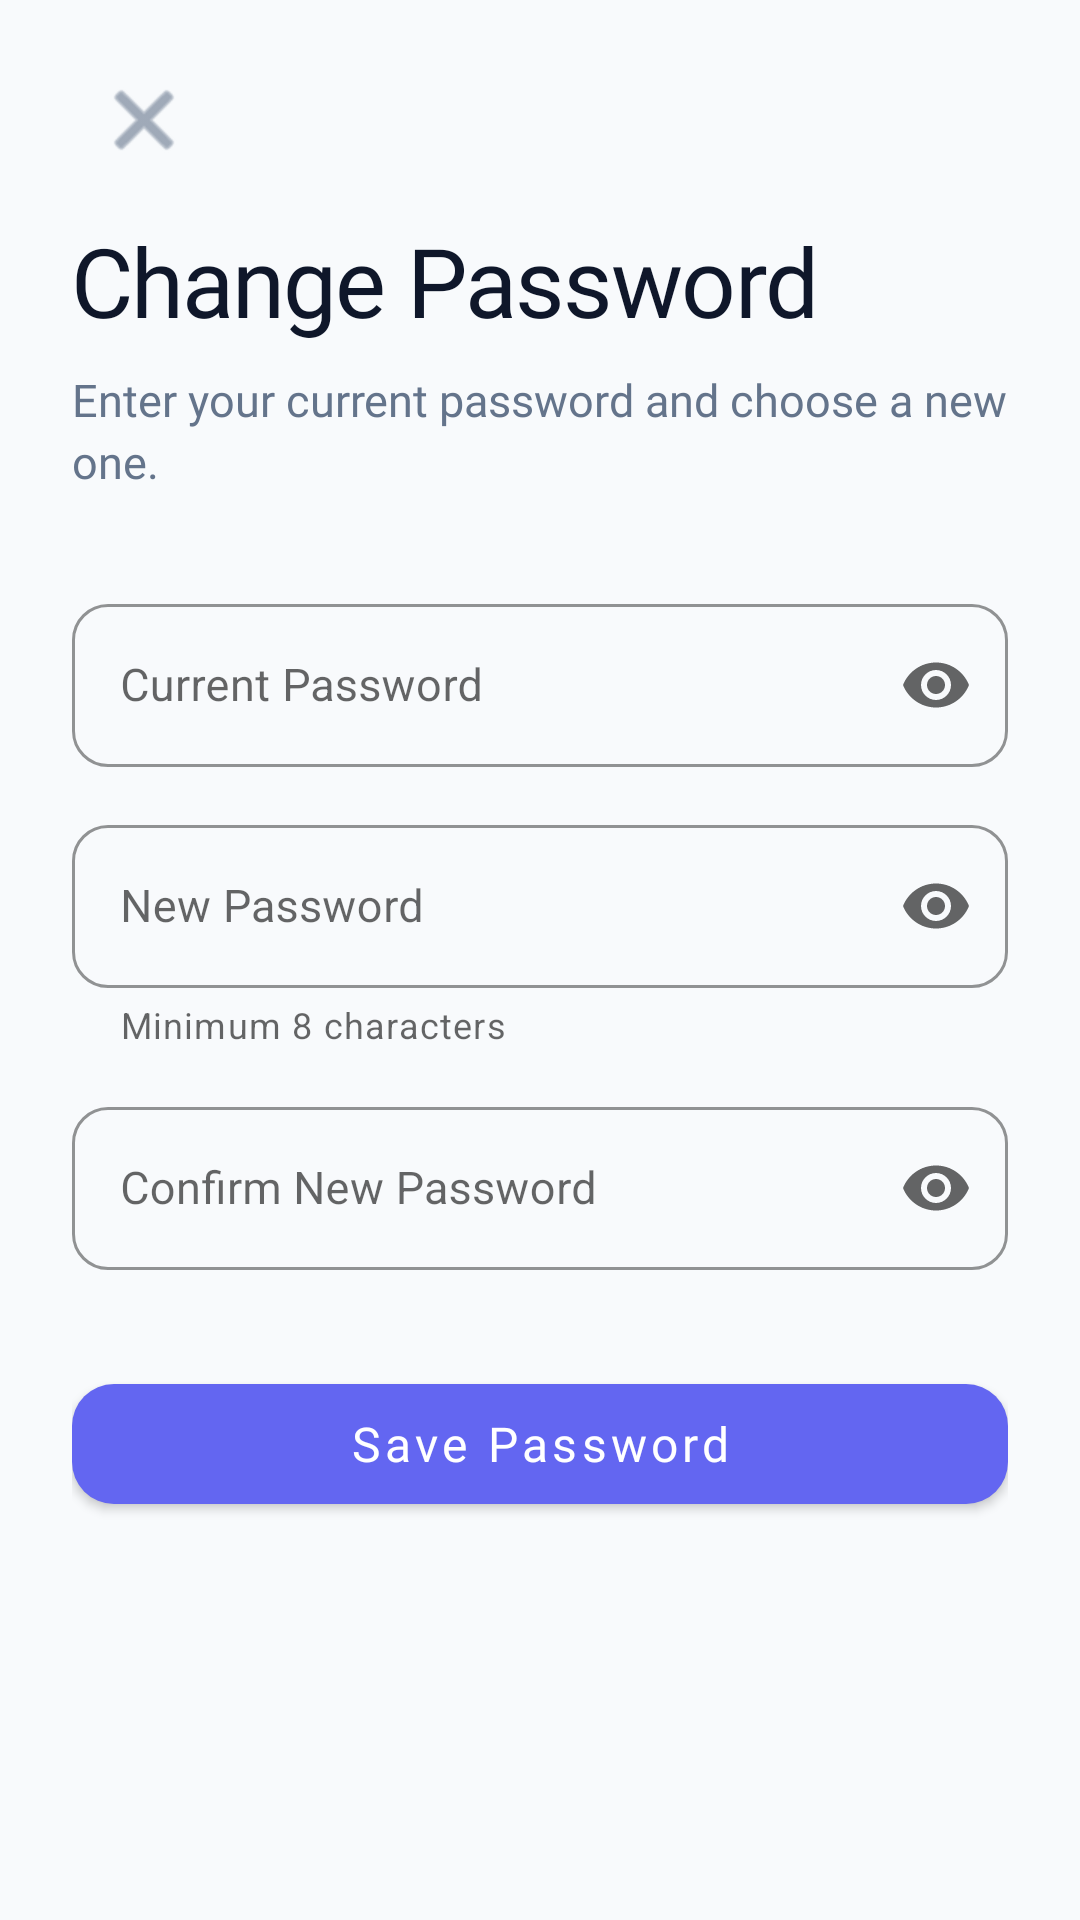

Where to tap for icons on this 1080 × 1920 app screen, as (x=x, y=y):
Back: (x=144, y=120)
